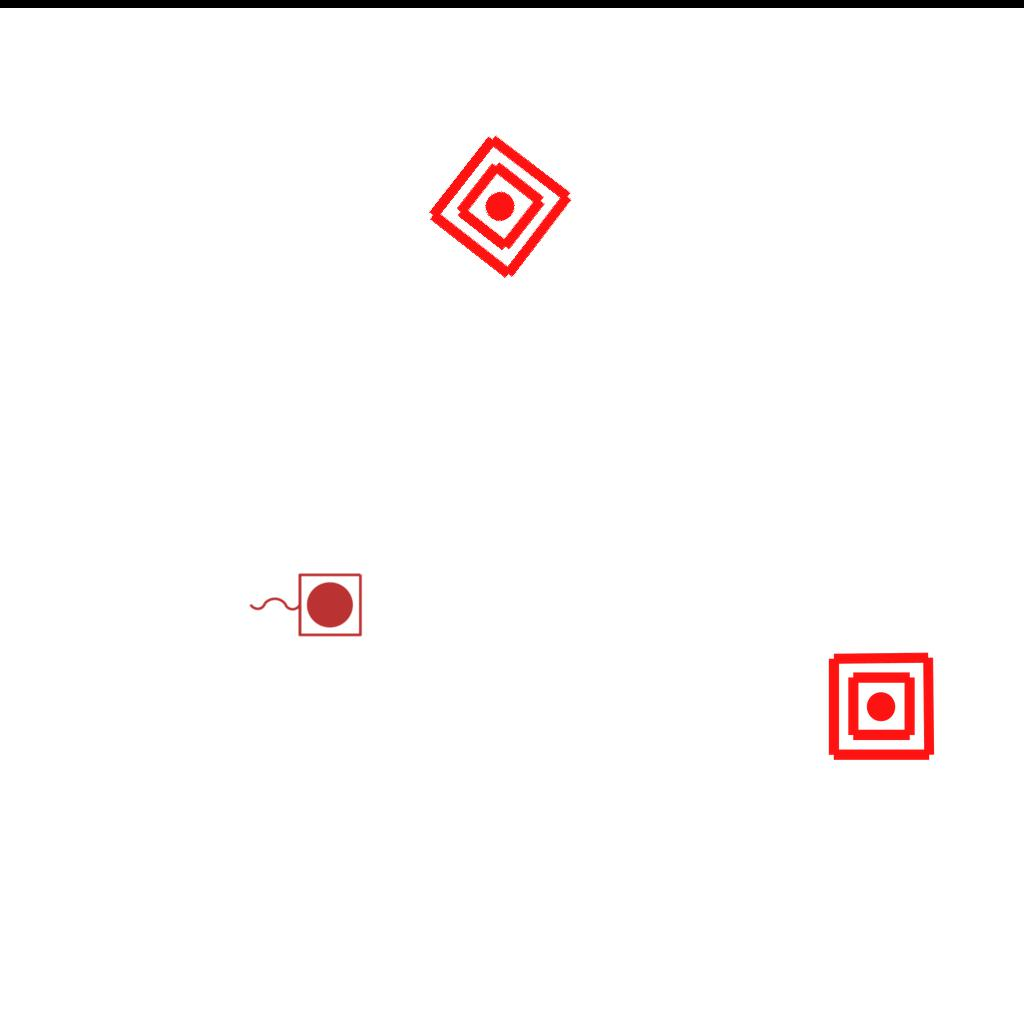NAM-Nichtautomatischer_Melder: (421, 127, 580, 286), (825, 650, 938, 763)
Zugtaster: (244, 568, 366, 640)
